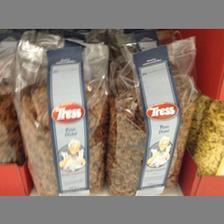Nudeln: (11, 37, 109, 193), (108, 42, 196, 194)
